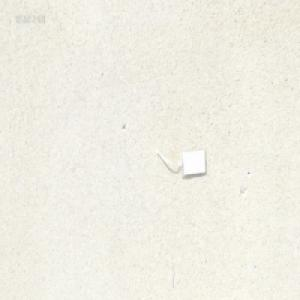LuggageTag: (155, 147, 207, 177)
